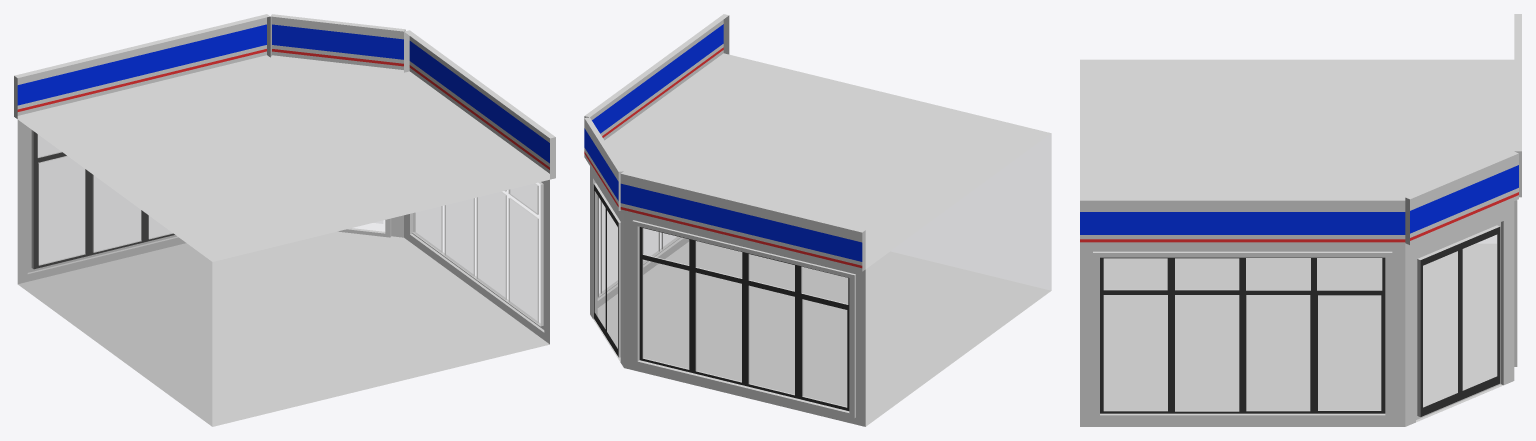
The model's file is hew15.glb.
3 views of the same model, side by side, from view 1: azimuth 30°, elevation 25°; view 2: azimuth 150°, elevation 25°; view 3: azimuth 270°, elevation 25° (orthographic). The views are drawn at different scales.
Visible parts, largest first — view 1: Cube; view 2: Cube; view 3: Cube.
Boxes of the visible parts, left/top/right/bottom form: Cube: left=14, top=14, right=555, bottom=426; Cube: left=584, top=14, right=1051, bottom=426; Cube: left=1080, top=14, right=1521, bottom=426.
Size of the model in its own units: 5.05 by 2.9 by 5.06.
